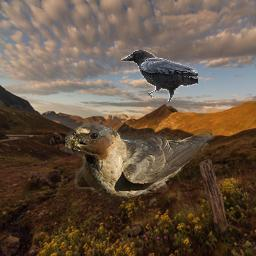Crow: (121, 50, 198, 102)
Swallow: (65, 122, 215, 203)
